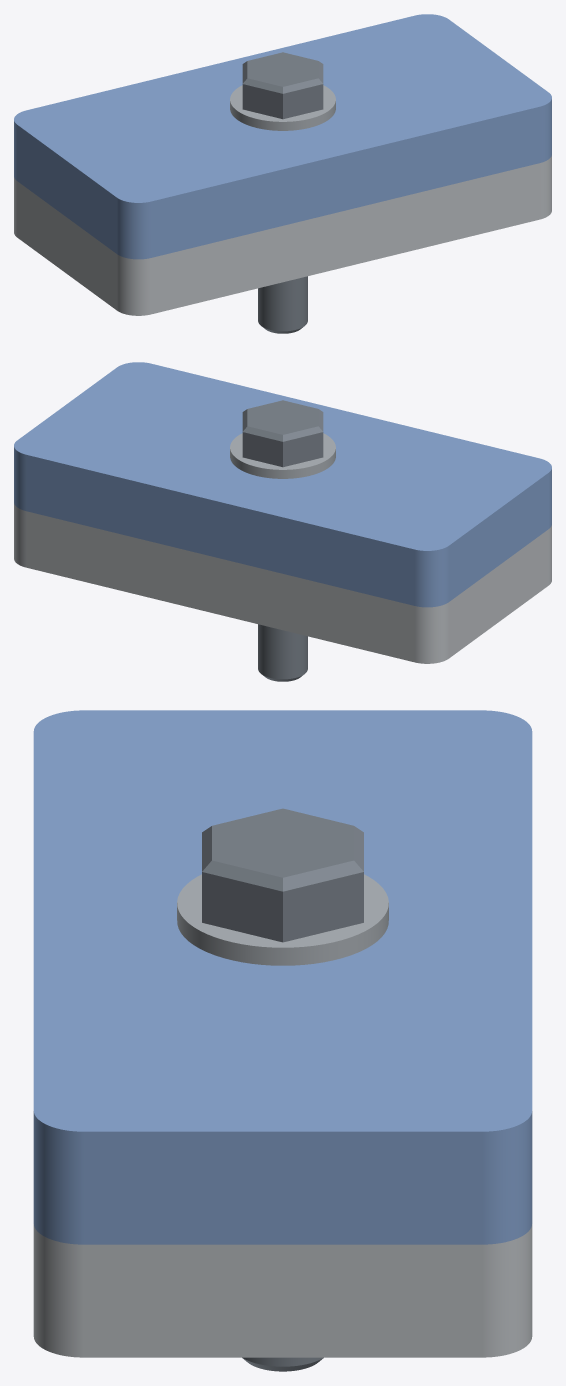
Rendered from step_08.glb.
3 renders of one model, top to bottom at view 1: azimuth 30°, elevation 25°; view 2: azimuth 150°, elevation 25°; view 3: azimuth 270°, elevation 25°, orthographic. The views are drawn at different scales.
Visible parts, largest first — view 1: part__upper plate, part__lower plate, part__hex bolt M8 x 40, part__washer; view 2: part__upper plate, part__lower plate, part__hex bolt M8 x 40, part__washer; view 3: part__upper plate, part__lower plate, part__hex bolt M8 x 40, part__washer.
Part boxes in pixels (bbox=[...]): part__upper plate: bbox=[14, 14, 551, 259]; part__lower plate: bbox=[14, 155, 551, 315]; part__hex bolt M8 x 40: bbox=[242, 52, 323, 333]; part__washer: bbox=[230, 85, 335, 130]; part__upper plate: bbox=[14, 362, 551, 607]; part__lower plate: bbox=[14, 503, 551, 663]; part__hex bolt M8 x 40: bbox=[242, 400, 323, 681]; part__washer: bbox=[230, 433, 335, 478]; part__upper plate: bbox=[33, 710, 532, 1244]; part__lower plate: bbox=[33, 1224, 532, 1357]; part__hex bolt M8 x 40: bbox=[202, 808, 363, 1371]; part__washer: bbox=[177, 874, 388, 965].
Bounding box in the file's own units: 80 × 45.3 × 40.
